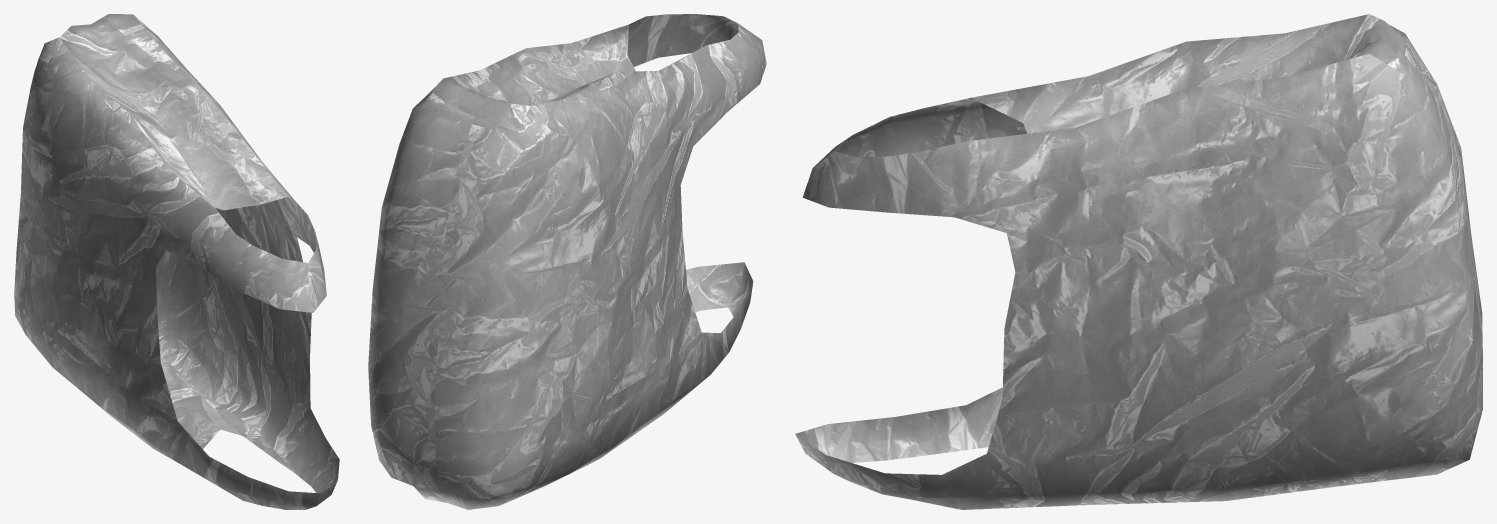
Rendered from Plastic Bag.fbx.
3 renders of one model, left to right at view 1: azimuth 30°, elevation 25°; view 2: azimuth 150°, elevation 25°; view 3: azimuth 270°, elevation 25°, orthographic. The views are drawn at different scales.
Parts seen in each view (by area): view 1: Plastic bag; view 2: Plastic bag; view 3: Plastic bag.
Part boxes in pixels (bbox=[...]): Plastic bag: bbox=[14, 14, 339, 509]; Plastic bag: bbox=[368, 14, 766, 509]; Plastic bag: bbox=[795, 14, 1482, 509].
Size of the model in its own units: 30.24 by 63.45 by 87.36.
1 material, 1 textured.
